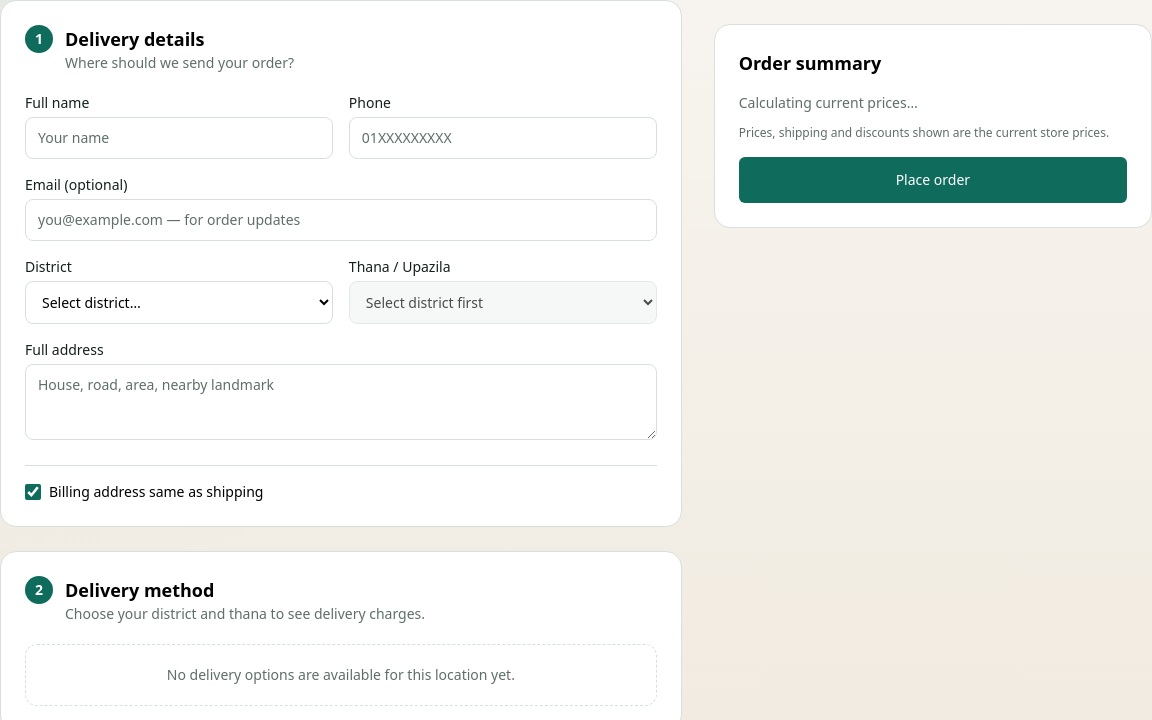
Test: checkout settings › requires a phone number and hides order notes when configured off
Expected: the heading "Order summary" is shown, [739,51,881,75]
In the field labelled "Full name": (179, 138) [25,117,333,159], type "Ada"
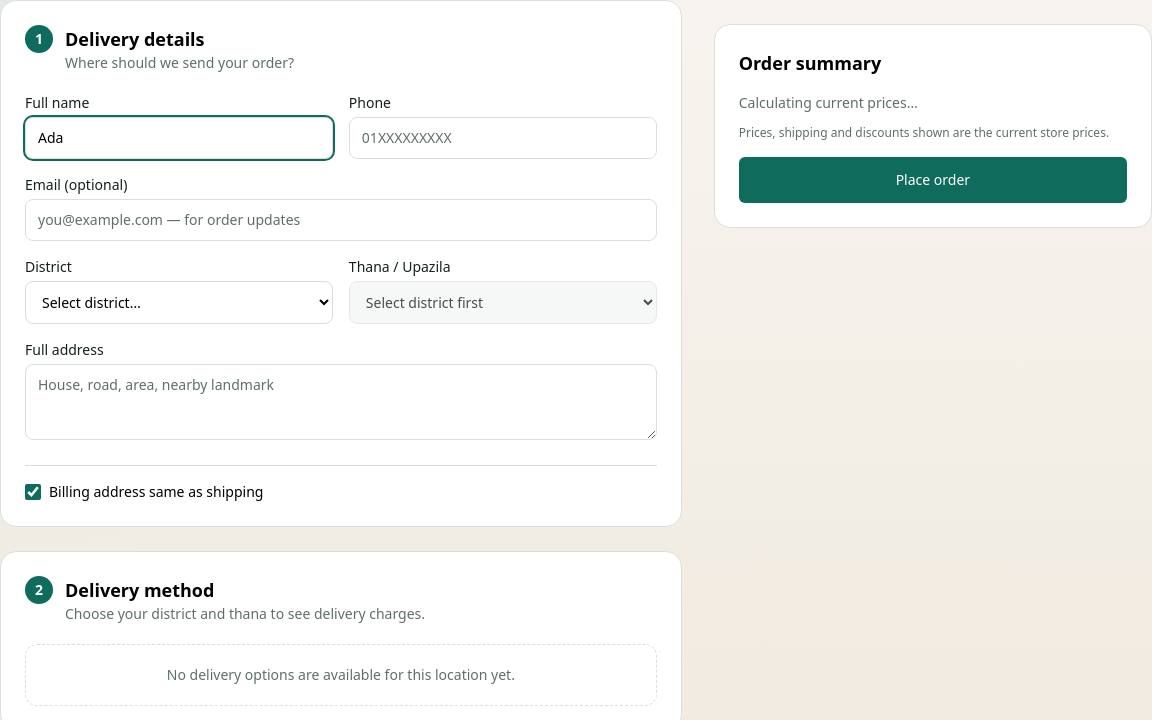
In the field labelled "Email (optional)": (341, 220) [25,199,657,241], type "ada@example.com"
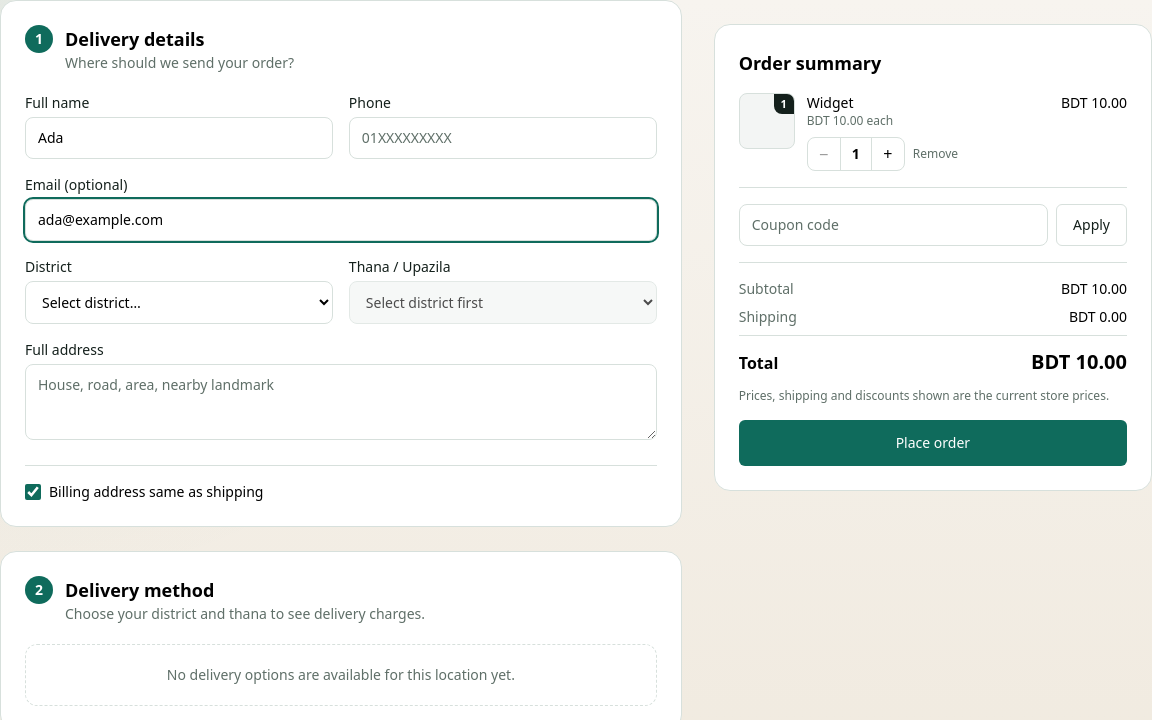
Click the button "Place order": (933, 443) [739,420,1127,466]
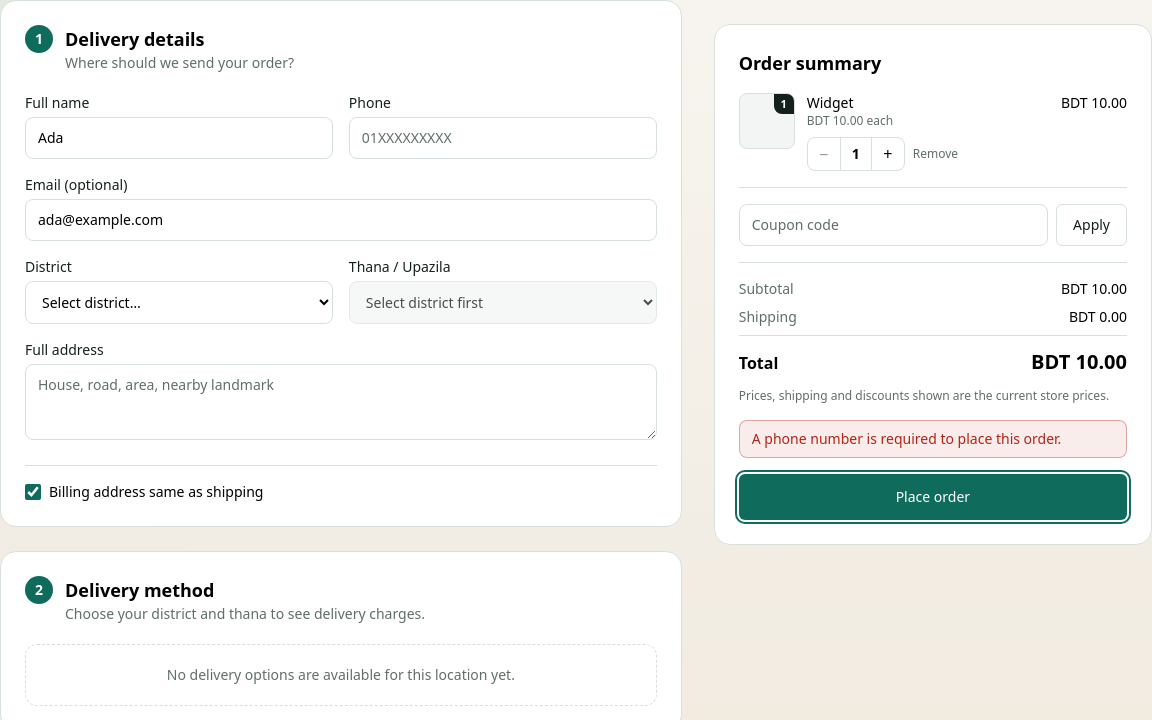
Expected: the message shows "phone number is required", [752,429,1061,448]
